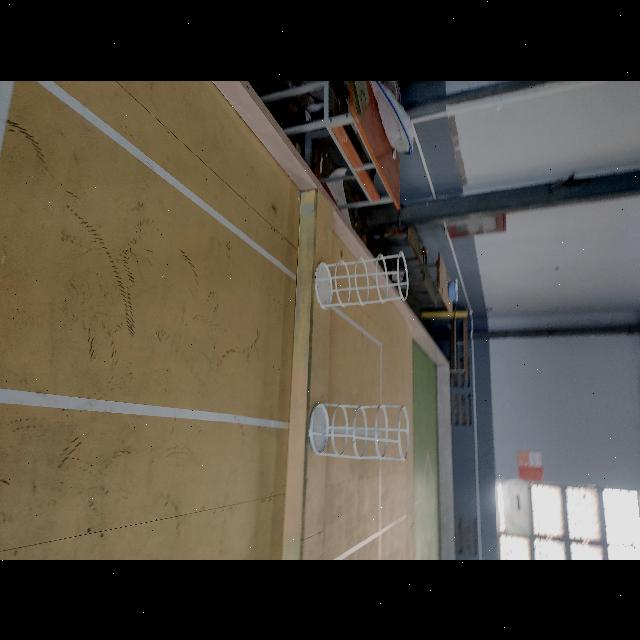S: (307, 401, 409, 461), (313, 251, 409, 308)
